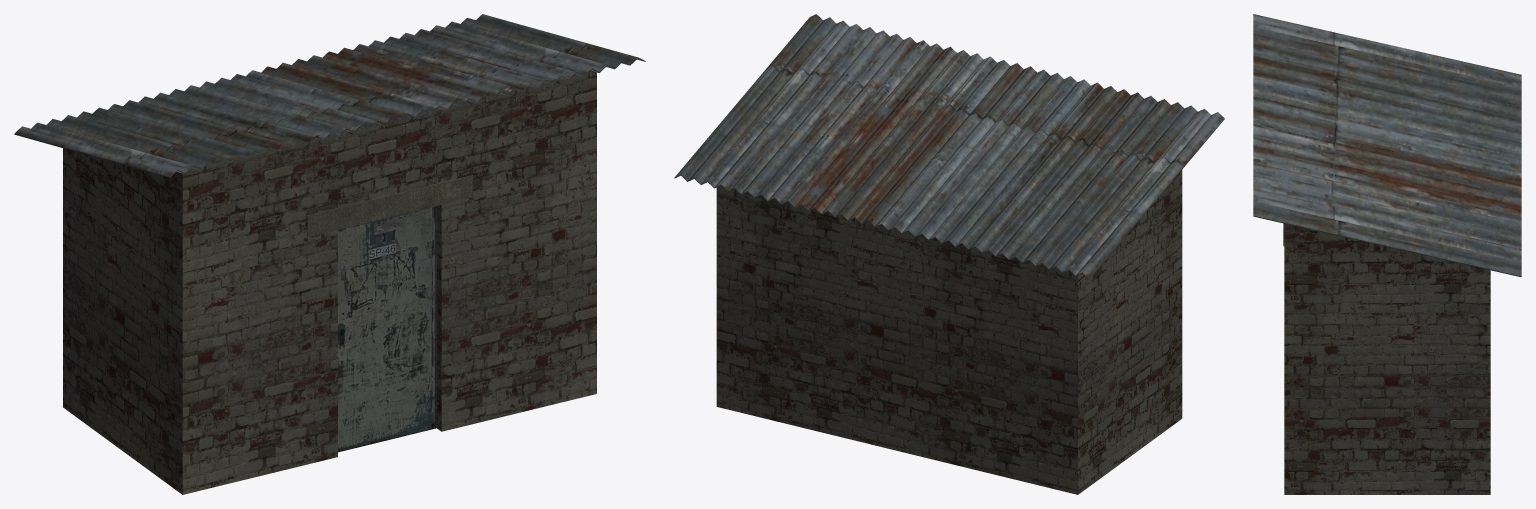
File: shed_ax_4.obj
The picture shows the model from 3 angles, left to right: view 1: azimuth 30°, elevation 25°; view 2: azimuth 150°, elevation 25°; view 3: azimuth 270°, elevation 25°; orthographic projection. The views are drawn at different scales.
Parts seen in each view (by area): view 1: shed_ax_4, door_hr_10; view 2: shed_ax_4; view 3: shed_ax_4.
Boxes of the visible parts, x1,y1,x2,y2 form: shed_ax_4: (14,14,645,494); door_hr_10: (338,206,436,452); shed_ax_4: (674,14,1224,494); shed_ax_4: (1253,14,1521,494).
Bounding box in the file's own units: 4.59 × 3.17 × 2.6.
